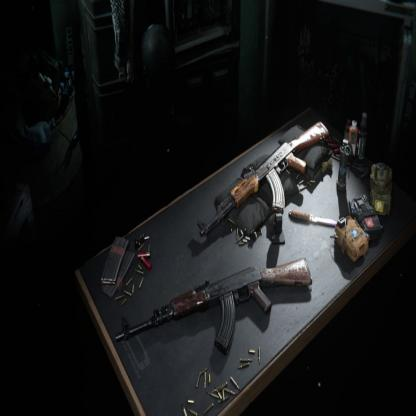Grenade: (336, 138, 352, 192)
Gun: (114, 256, 313, 357), (196, 118, 329, 239)
Knife: (287, 207, 338, 229)
